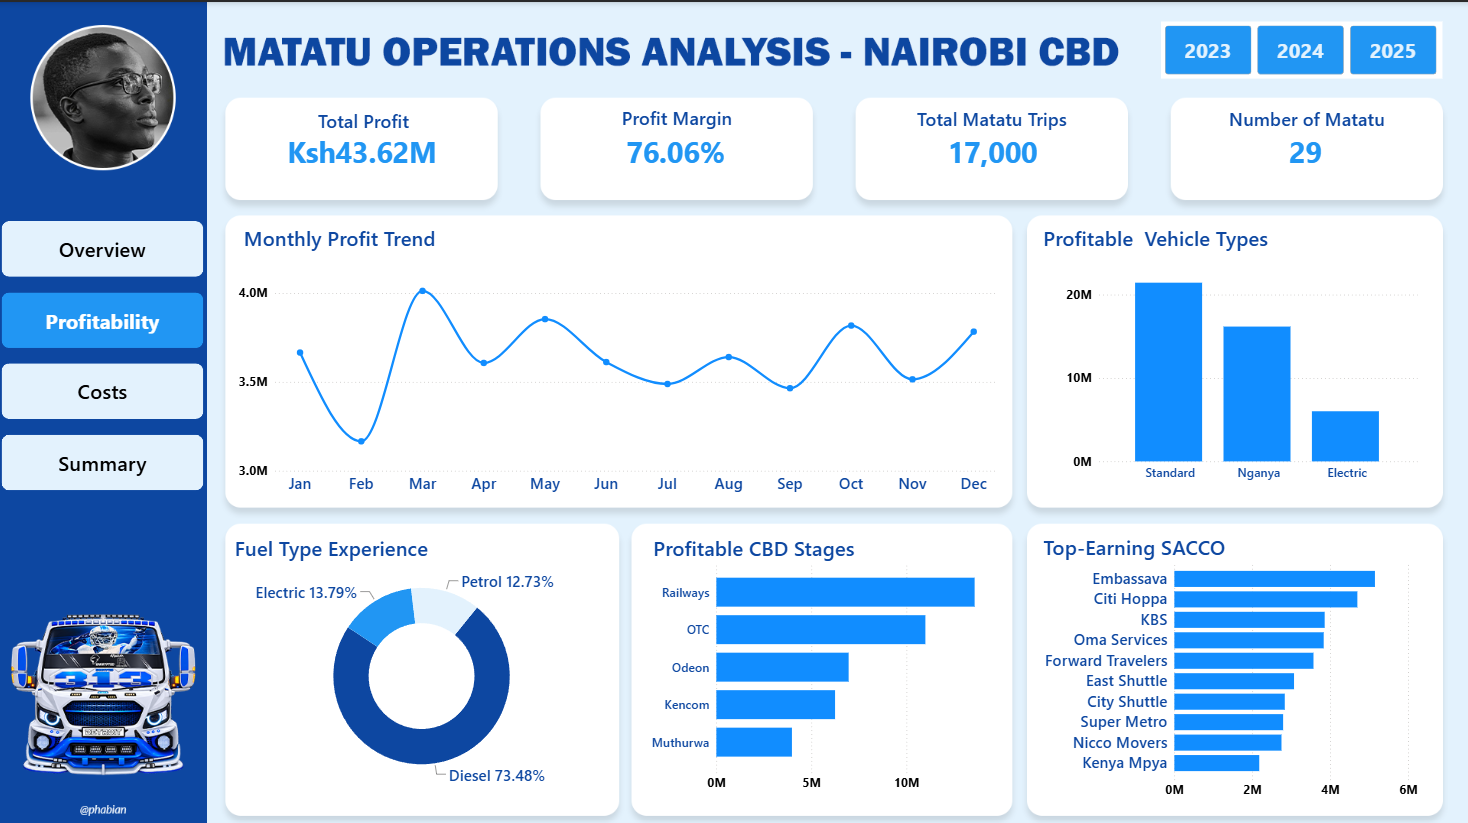

The dashboard page shown, as its layout file describes it:
{"tool":"powerbi","page":{"name":"Profitability","canvas":[1920,1080],"ordinal":1},"visuals":[{"type":"cardVisual","fields":{"Data":["public matatu_operation_dataset.Total Profit"]},"box":[298,142,350,106],"z":0},{"type":"cardVisual","fields":{"Data":["public matatu_operation_dataset.Formatted Trips"]},"box":[1124,142,348,106],"z":1000},{"type":"cardVisual","fields":{"Data":["public matatu_operation_dataset.Total Matatu"]},"box":[1532,142,350,106],"z":2000},{"type":"textbox","box":[326.2,134.2,299.4,59.9],"z":3000},{"type":"textbox","box":[1147.9,132.1,299.4,59.9],"z":4000},{"type":"textbox","box":[1558.7,132.1,299.4,59.9],"z":5000},{"type":"cardVisual","fields":{"Data":["public matatu_operation_dataset.Profit Margin"]},"box":[708,142,350,106],"z":6000},{"type":"textbox","box":[734.6,129.7,299.4,59.9],"z":7000},{"type":"textbox","box":[302,690.4,463.3,59.1],"z":8000},{"type":"textbox","box":[1358.2,688.2,463.3,59.1],"z":9000},{"type":"textbox","box":[1358.2,283.9,463.3,59.1],"z":10000},{"type":"textbox","box":[849.2,690.4,463.3,59.1],"z":11000},{"type":"advancedSlicerVisual","fields":{"Values":["Date.Year"]},"box":[1517.2,25,368,75],"z":12000},{"type":"pageNavigator","box":[2.2,286.1,264.1,352.2],"z":13000},{"type":"lineChart","fields":{"Category":["Date.Month_Name"],"Y":["public matatu_operation_dataset.Total Profit"]},"box":[306.6,320.3,1003.9,333.9],"z":14000},{"type":"textbox","box":[313.4,283.9,463.3,59.1],"z":15000},{"type":"clusteredBarChart","fields":{"Category":["public matatu_operation_dataset.sacco"],"Y":["public matatu_operation_dataset.Total Profit"]},"box":[1358.2,720,499.7,331.6],"z":16000},{"type":"clusteredColumnChart","fields":{"Category":["public matatu_operation_dataset.vehicle_type"],"Y":["public matatu_operation_dataset.Total Profit"]},"box":[1387.8,313.4,470.2,322.5],"z":17000},{"type":"clusteredBarChart","fields":{"Y":["public matatu_operation_dataset.Total Profit"],"Category":["public matatu_operation_dataset.cbd_stage"]},"box":[844.9,720,461.1,322.5],"z":18000},{"type":"donutChart","fields":{"Category":["public matatu_operation_dataset.fuel_type"],"Y":["public matatu_operation_dataset.Total Profit"]},"box":[315.7,720,470.2,322.5],"z":19000}]}

Visuals, with their boxes in screenshot pixels (x1, y1, x2, y2), scaled from the page's 1920x1080 canvas onto the 1468x823 screenshot:
cardVisual - public matatu_operation_dataset.Total Profit: [228,108,495,189]
cardVisual - public matatu_operation_dataset.Formatted Trips: [859,108,1125,189]
cardVisual - public matatu_operation_dataset.Total Matatu: [1171,108,1439,189]
textbox: [249,102,478,148]
textbox: [878,101,1107,146]
textbox: [1192,101,1421,146]
cardVisual - public matatu_operation_dataset.Profit Margin: [541,108,809,189]
textbox: [562,99,791,144]
textbox: [231,526,585,571]
textbox: [1038,524,1393,569]
textbox: [1038,216,1393,261]
textbox: [649,526,1004,571]
advancedSlicerVisual - Date.Year: [1160,19,1441,76]
pageNavigator: [2,218,204,486]
lineChart - Date.Month_Name x public matatu_operation_dataset.Total Profit: [234,244,1002,499]
textbox: [240,216,594,261]
clusteredBarChart - public matatu_operation_dataset.sacco x public matatu_operation_dataset.Total Profit: [1038,549,1421,801]
clusteredColumnChart - public matatu_operation_dataset.vehicle_type x public matatu_operation_dataset.Total Profit: [1061,239,1421,485]
clusteredBarChart - public matatu_operation_dataset.Total Profit x public matatu_operation_dataset.cbd_stage: [646,549,999,794]
donutChart - public matatu_operation_dataset.fuel_type x public matatu_operation_dataset.Total Profit: [241,549,601,794]
